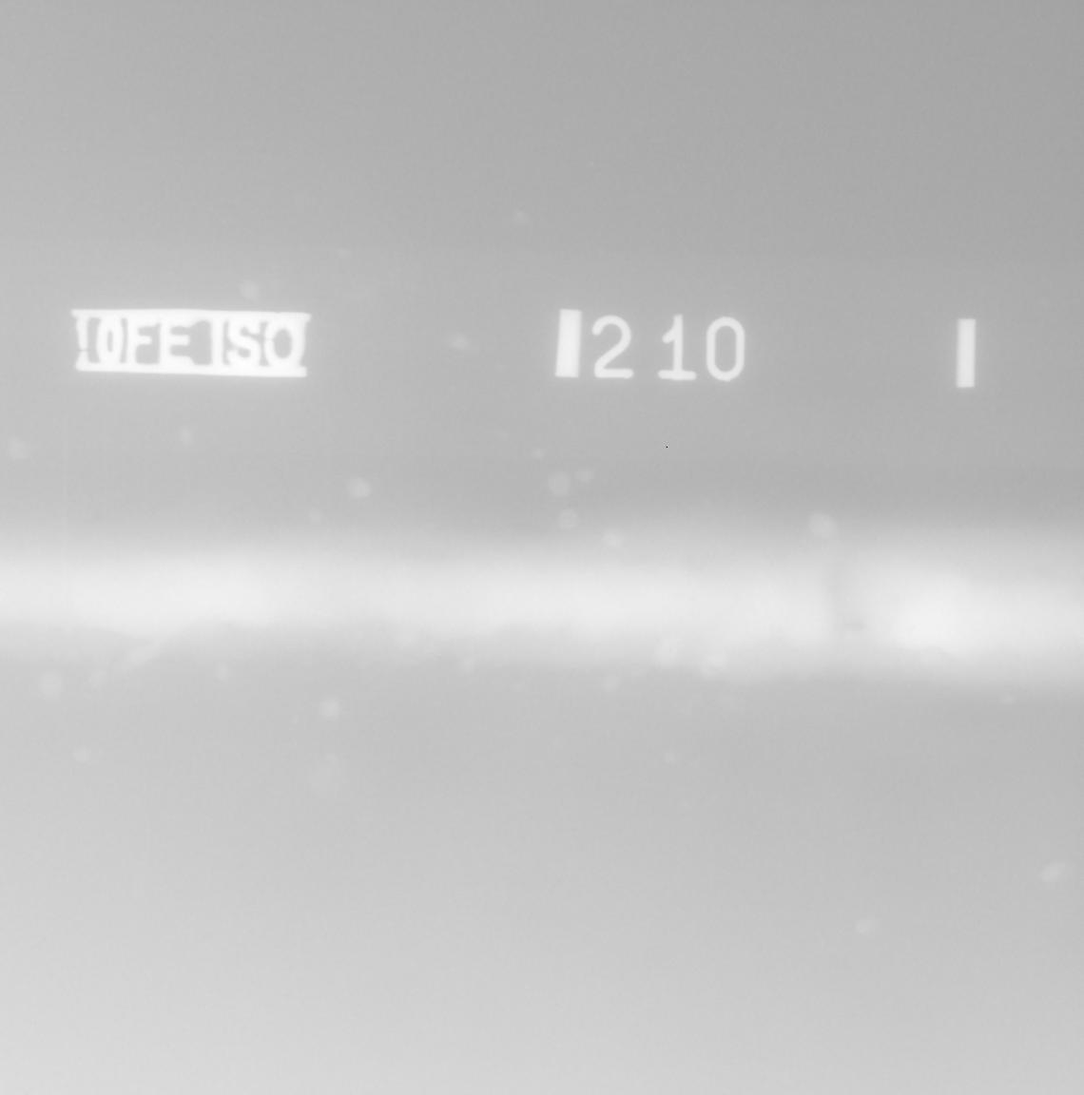Inclusion: (849, 623, 864, 631)
